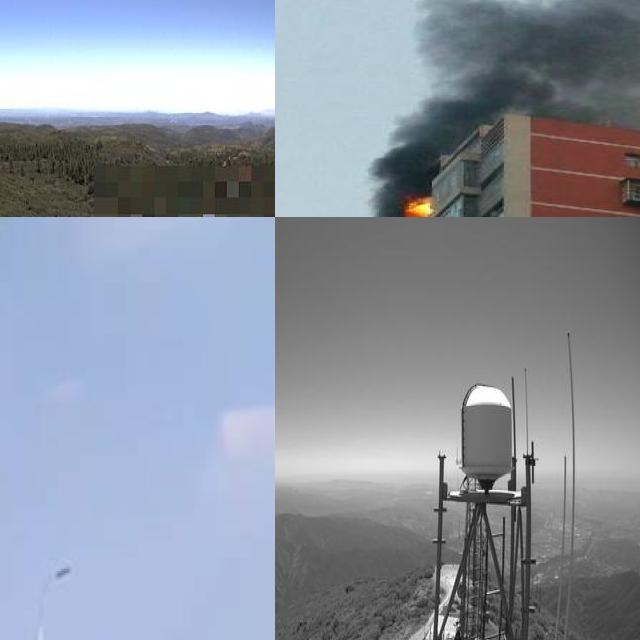fire: (398, 192, 437, 217)
smoke: (368, 0, 640, 187)
